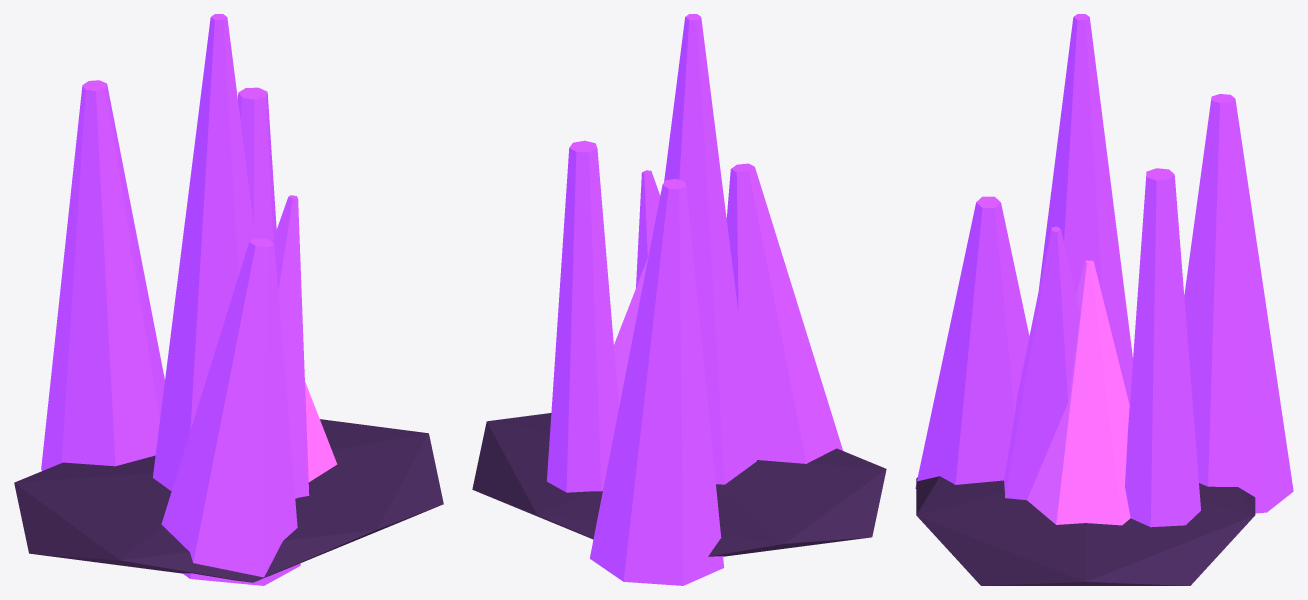
File: mire_crystal_c.glb
The picture shows the model from 3 angles, left to right: view 1: azimuth 30°, elevation 25°; view 2: azimuth 150°, elevation 25°; view 3: azimuth 270°, elevation 25°; orthographic projection. The views are drawn at different scales.
Parts seen in each view (by area): view 1: Crystal_3.002, Mire_Base.002, Crystal_5.002, Crystal_4.002, Crystal_6.001, Crystal_2.002, Crystal_1.002; view 2: Crystal_3.002, Mire_Base.002, Crystal_4.002, Crystal_5.002, Crystal_2.002, Crystal_6.001, Crystal_1.002; view 3: Crystal_3.002, Mire_Base.002, Crystal_5.002, Crystal_2.002, Crystal_1.002, Crystal_4.002, Crystal_6.001.
Part boxes in pixels (bbox=[...]): Crystal_3.002: bbox=[41, 80, 164, 470]; Mire_Base.002: bbox=[14, 419, 443, 582]; Crystal_5.002: bbox=[161, 238, 300, 585]; Crystal_4.002: bbox=[153, 14, 255, 491]; Crystal_6.001: bbox=[272, 195, 309, 498]; Crystal_2.002: bbox=[238, 87, 276, 241]; Crystal_1.002: bbox=[305, 382, 337, 481]; Crystal_3.002: bbox=[590, 179, 724, 585]; Mire_Base.002: bbox=[472, 413, 886, 556]; Crystal_4.002: bbox=[664, 14, 756, 484]; Crystal_5.002: bbox=[726, 163, 842, 463]; Crystal_2.002: bbox=[547, 140, 618, 492]; Crystal_6.001: bbox=[636, 170, 660, 287]; Crystal_1.002: bbox=[614, 257, 648, 406]; Crystal_3.002: bbox=[1184, 94, 1293, 513]; Mire_Base.002: bbox=[916, 476, 1255, 585]; Crystal_5.002: bbox=[915, 196, 1029, 488]; Crystal_2.002: bbox=[1125, 168, 1200, 527]; Crystal_1.002: bbox=[1027, 260, 1130, 525]; Crystal_4.002: bbox=[1039, 14, 1132, 404]; Crystal_6.001: bbox=[1004, 226, 1080, 500].
Bounding box in the file's own units: 1.65 × 1.99 × 1.37.
